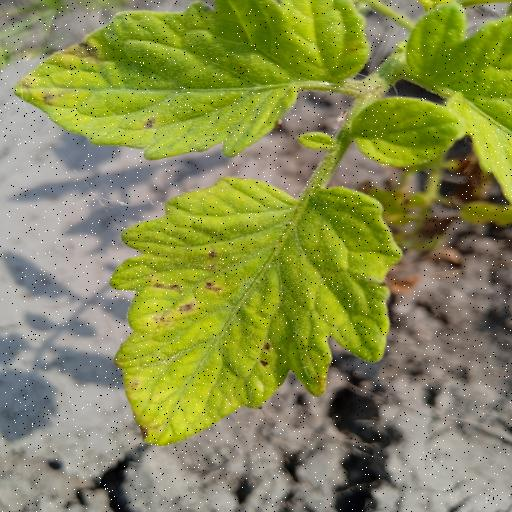Tomato_Brown_Spots: (109, 174, 408, 453), (10, 0, 374, 163)
